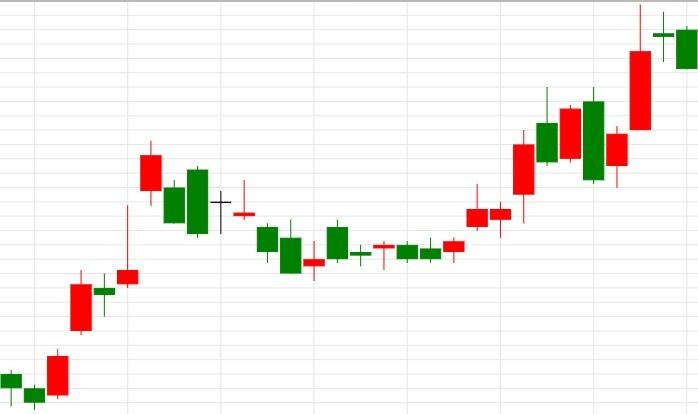bearish_engulfing_fall: (303, 87, 606, 281)
evening_star_fall: (582, 5, 698, 188)
